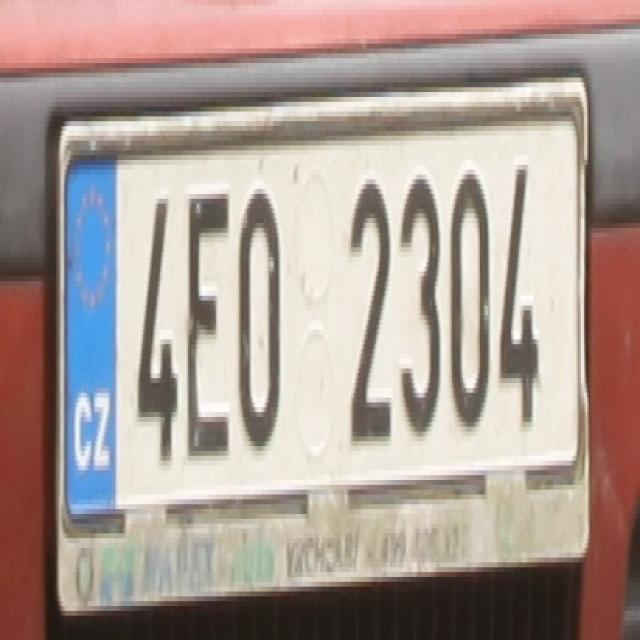0: (444, 160, 492, 432), (234, 189, 280, 470)
2: (346, 175, 392, 446)
3: (398, 170, 441, 442)
4: (134, 184, 178, 470), (497, 160, 541, 427)
E: (183, 184, 233, 461)
